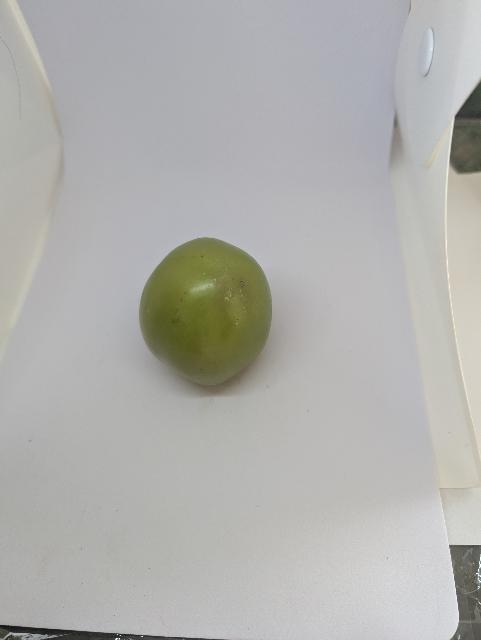green: (129, 225, 283, 397)
